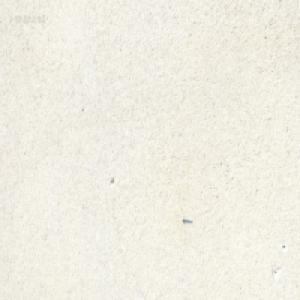Nail: (182, 216, 192, 224)
